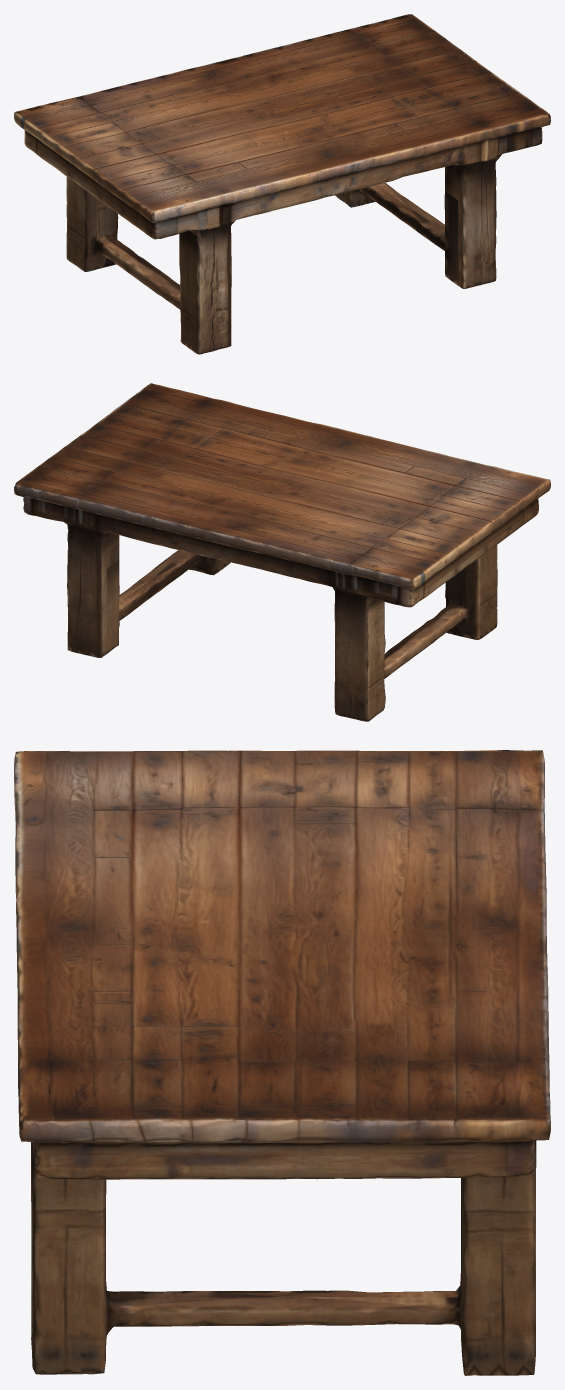
Rendered from masasandalye.fbx.
3 views of the same model, one above another, from view 1: azimuth 30°, elevation 25°; view 2: azimuth 150°, elevation 25°; view 3: azimuth 270°, elevation 25° (orthographic). The views are drawn at different scales.
Parts seen in each view (by area): view 1: Mesh0; view 2: Mesh0; view 3: Mesh0.
Boxes of the visible parts, <box> form: Mesh0: <box>14,14,550,354</box>; Mesh0: <box>14,383,550,721</box>; Mesh0: <box>14,750,550,1375</box>.
Size of the model in its own units: 201 by 76.02 by 122.
1 material, 1 textured.
